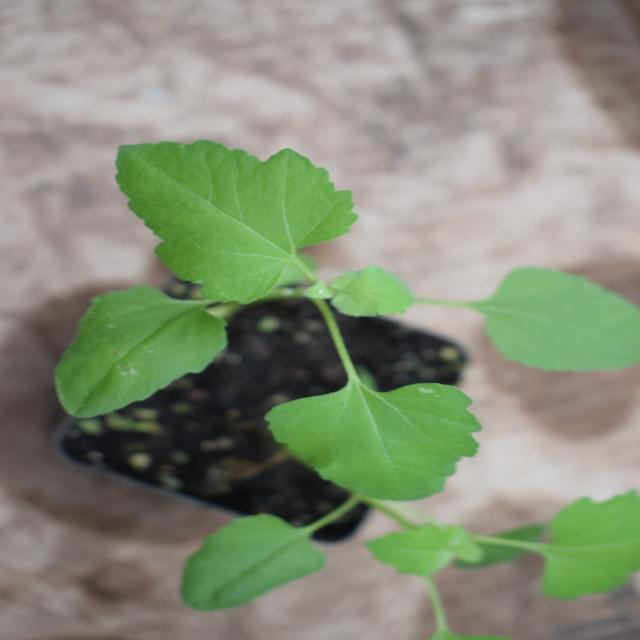cocklebur: (124, 42, 488, 584)
